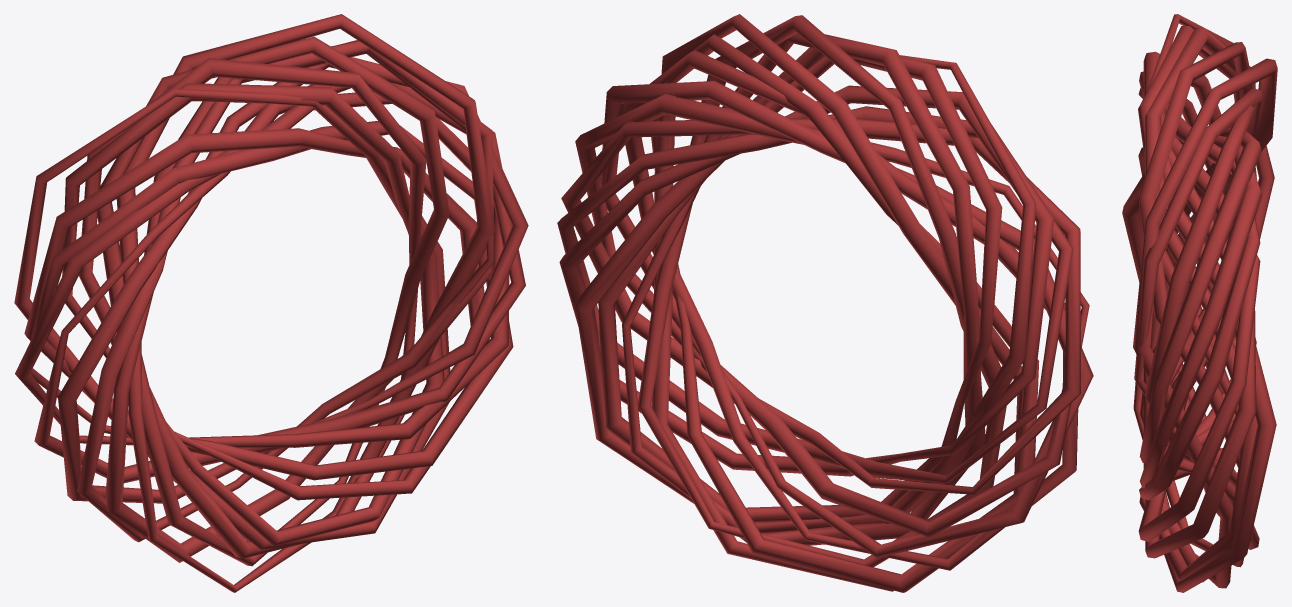
The picture shows the model from 3 angles, left to right: view 1: azimuth 30°, elevation 25°; view 2: azimuth 150°, elevation 25°; view 3: azimuth 270°, elevation 25°; orthographic projection. The views are drawn at different scales.
Parts seen in each view (by area): view 1: Torus_01; view 2: Torus_01; view 3: Torus_01.
Part boxes in pixels (x1=…): Torus_01: x1=14, y1=14, x2=528, y2=592; Torus_01: x1=557, y1=14, x2=1093, y2=592; Torus_01: x1=1122, y1=14, x2=1277, y2=592.
Bounding box in the file's own units: 253 × 261 × 71.01.
Materials: 1 (1 with a texture image).
